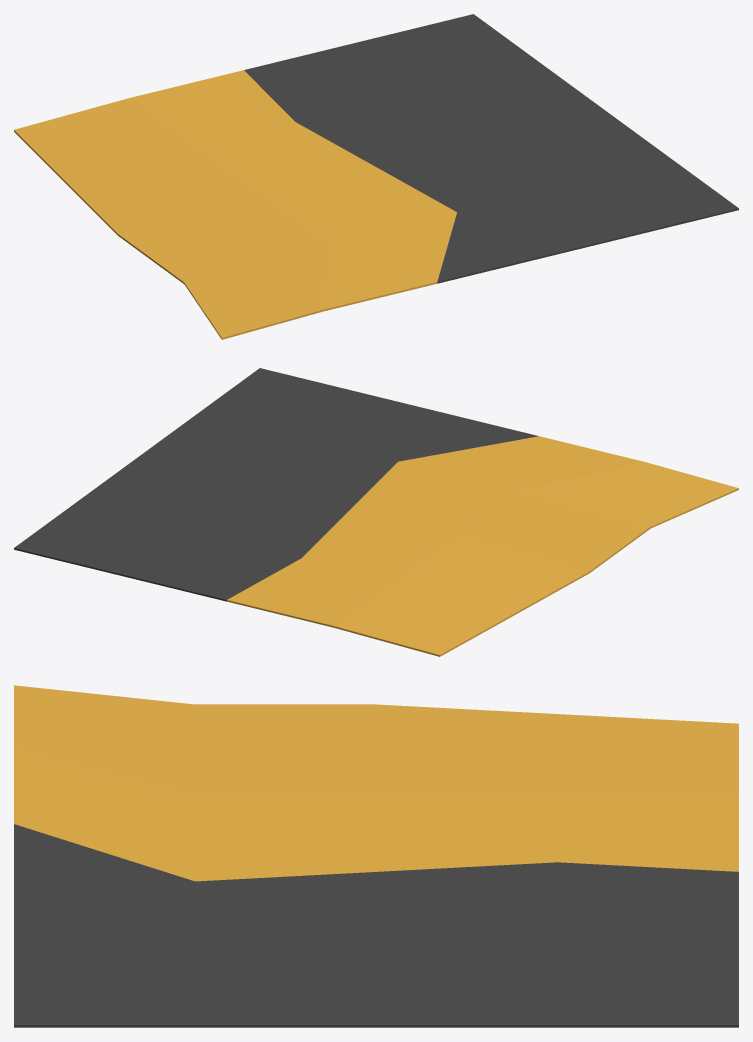
The picture shows the model from 3 angles, top to bottom: view 1: azimuth 30°, elevation 25°; view 2: azimuth 150°, elevation 25°; view 3: azimuth 270°, elevation 25°; orthographic projection. The views are drawn at different scales.
Visible parts, largest first — view 1: 01_street_base_plate-COL.015; view 2: 01_street_base_plate-COL.015; view 3: 01_street_base_plate-COL.015.
Boxes of the visible parts, x1=… form: 01_street_base_plate-COL.015: x1=14, y1=14, x2=738, y2=339; 01_street_base_plate-COL.015: x1=14, y1=368, x2=738, y2=656; 01_street_base_plate-COL.015: x1=14, y1=685, x2=738, y2=1027.
Bounding box in the file's own units: 288 × 2.92 × 256.
